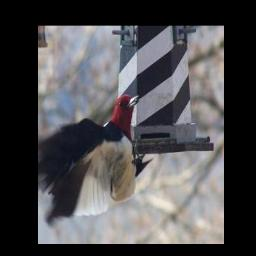Woodpecker: (38, 86, 150, 222)
